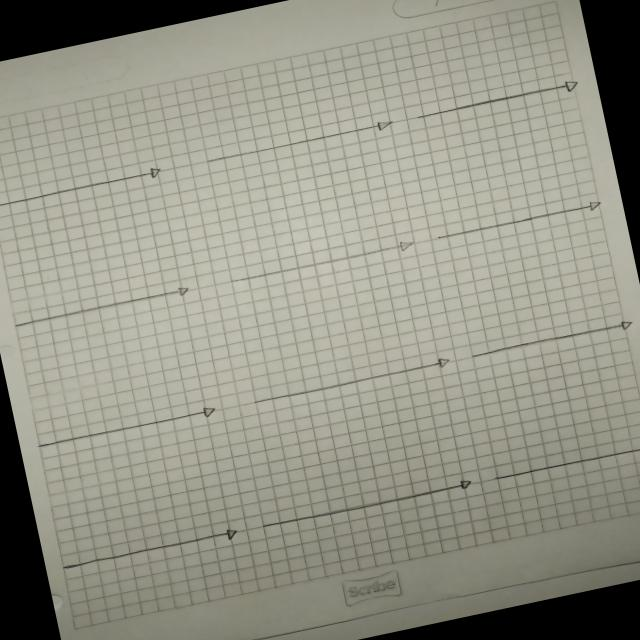arrow_line_right: (252, 470, 481, 543), (238, 347, 460, 418), (218, 228, 429, 296), (24, 394, 230, 462), (3, 273, 201, 340), (47, 516, 248, 582), (196, 108, 400, 173), (461, 309, 640, 374), (0, 156, 166, 223), (408, 70, 592, 130), (428, 191, 614, 246), (484, 430, 640, 493)
